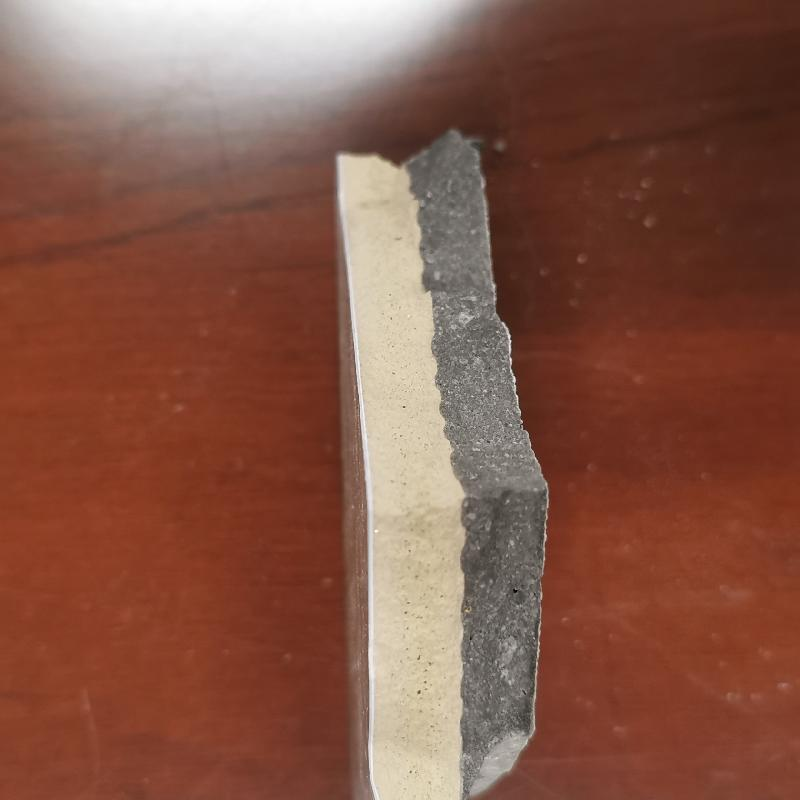tile: (321, 152, 552, 799)
